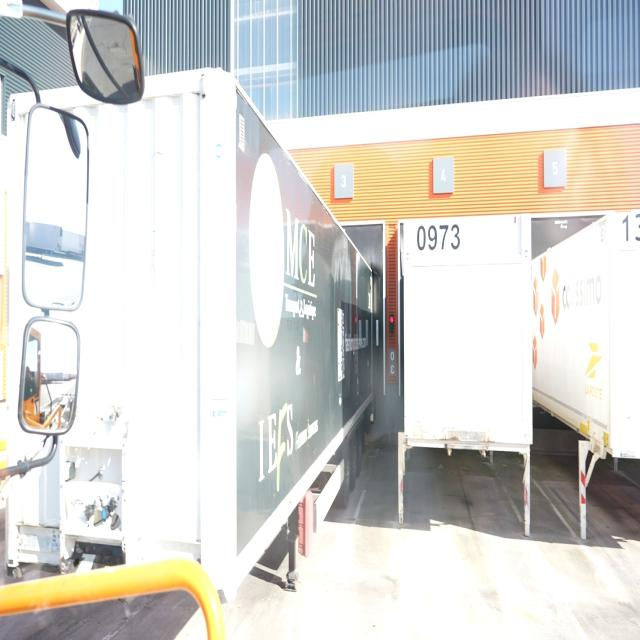Code: (415, 218, 463, 256)
